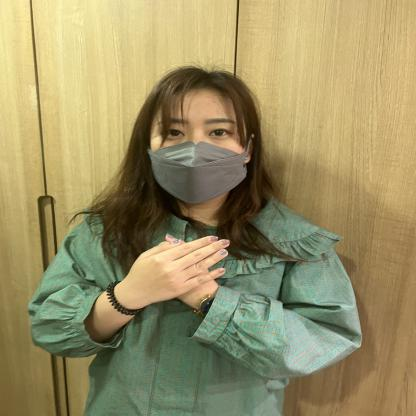Grieve: (32, 205, 270, 305)
